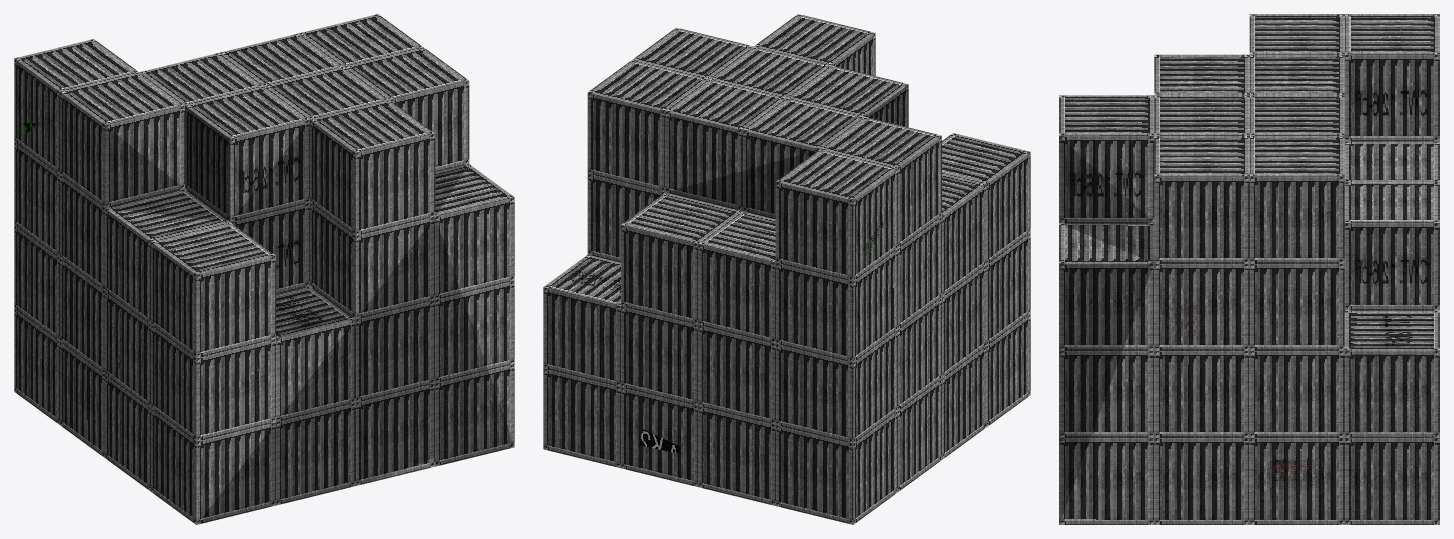
The model's file is metal_crate_stack_13.glb.
3 renders of one model, left to right at view 1: azimuth 30°, elevation 25°; view 2: azimuth 150°, elevation 25°; view 3: azimuth 270°, elevation 25°, orthographic. The views are drawn at different scales.
Parts seen in each view (by area): view 1: Object; view 2: Object; view 3: Object.
Boxes of the visible parts, x1=… form: Object: x1=14, y1=14, x2=514, y2=524; Object: x1=543, y1=14, x2=1030, y2=524; Object: x1=1059, y1=14, x2=1439, y2=524.
Size of the model in its own units: 5.44 by 5.44 by 5.39.
Materials: 12 (12 with a texture image).
